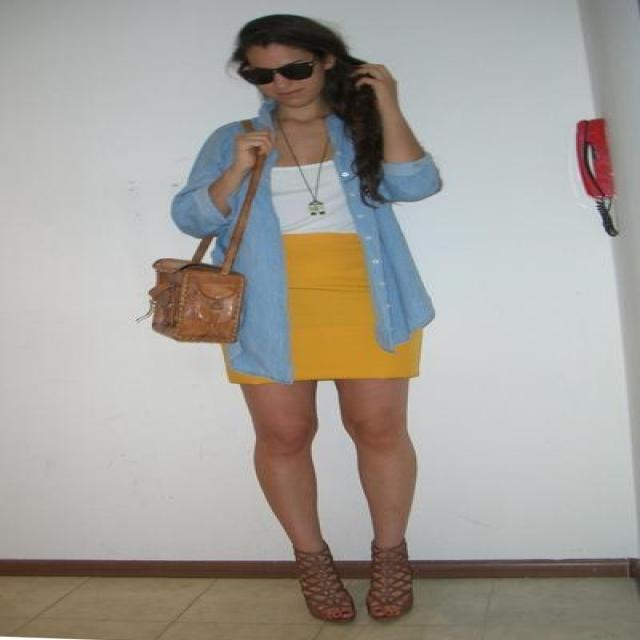bag: (149, 243, 245, 345)
shirt: (171, 97, 440, 383), (270, 166, 356, 234)
shoe: (280, 540, 416, 625)
skirt: (282, 232, 421, 380)
sunglass: (250, 63, 310, 84)
